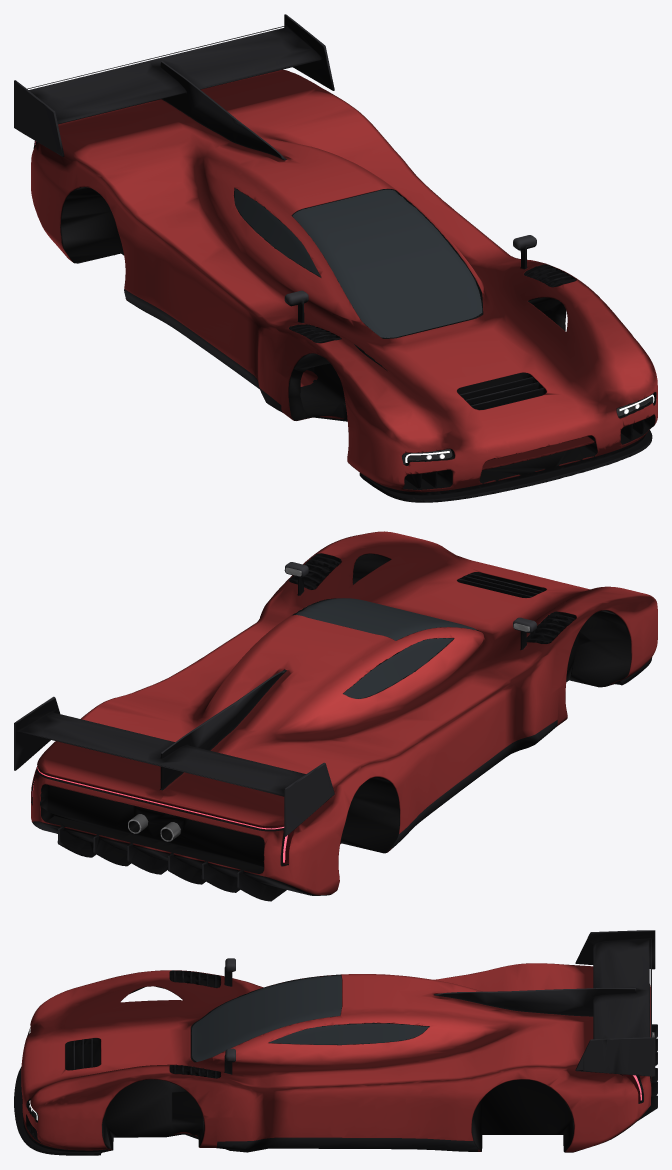
The model's file is specter.m.glb.
The picture shows the model from 3 angles, top to bottom: view 1: azimuth 30°, elevation 25°; view 2: azimuth 150°, elevation 25°; view 3: azimuth 270°, elevation 25°; orthographic projection. The views are drawn at different scales.
Visible parts, largest first — view 1: paint_lodm, carbon_lodm, window_lodm, trim_lodm; view 2: paint_lodm, carbon_lodm, trim_lodm, grille_lodm, window_lodm, tail_lodm, chrome_lodm; view 3: paint_lodm, carbon_lodm, trim_lodm, window_lodm, grille_lodm.
Boxes of the visible parts, bbox=[...] form: paint_lodm: bbox=[31, 69, 657, 492]; carbon_lodm: bbox=[14, 14, 652, 502]; window_lodm: bbox=[235, 188, 482, 337]; trim_lodm: bbox=[33, 141, 656, 489]; paint_lodm: bbox=[31, 531, 657, 895]; carbon_lodm: bbox=[14, 555, 652, 901]; trim_lodm: bbox=[31, 553, 631, 873]; grille_lodm: bbox=[48, 560, 570, 866]; window_lodm: bbox=[295, 598, 476, 698]; tail_lodm: bbox=[39, 769, 294, 864]; chrome_lodm: bbox=[128, 567, 529, 841]; paint_lodm: bbox=[21, 963, 651, 1152]; carbon_lodm: bbox=[14, 930, 657, 1155]; trim_lodm: bbox=[22, 970, 656, 1152]; window_lodm: bbox=[192, 975, 428, 1061]; grille_lodm: bbox=[65, 975, 220, 1078].
Size of what is drawn, in the model's own units: 2.09 by 1.04 by 5.05.
